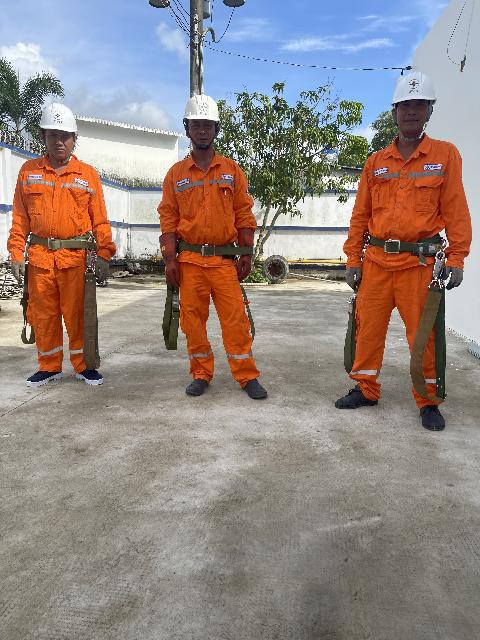gloves: (149, 233, 189, 288), (237, 215, 256, 289), (0, 251, 32, 285), (336, 263, 369, 295), (86, 254, 117, 287), (444, 259, 465, 295)
harness: (363, 229, 449, 262), (20, 228, 106, 259), (174, 229, 252, 263)
helmet: (387, 67, 447, 105), (35, 107, 88, 141), (184, 88, 228, 123)
shoes: (407, 401, 455, 440), (326, 386, 386, 417), (67, 362, 108, 389), (26, 363, 68, 389), (179, 371, 213, 403), (237, 374, 268, 409)
